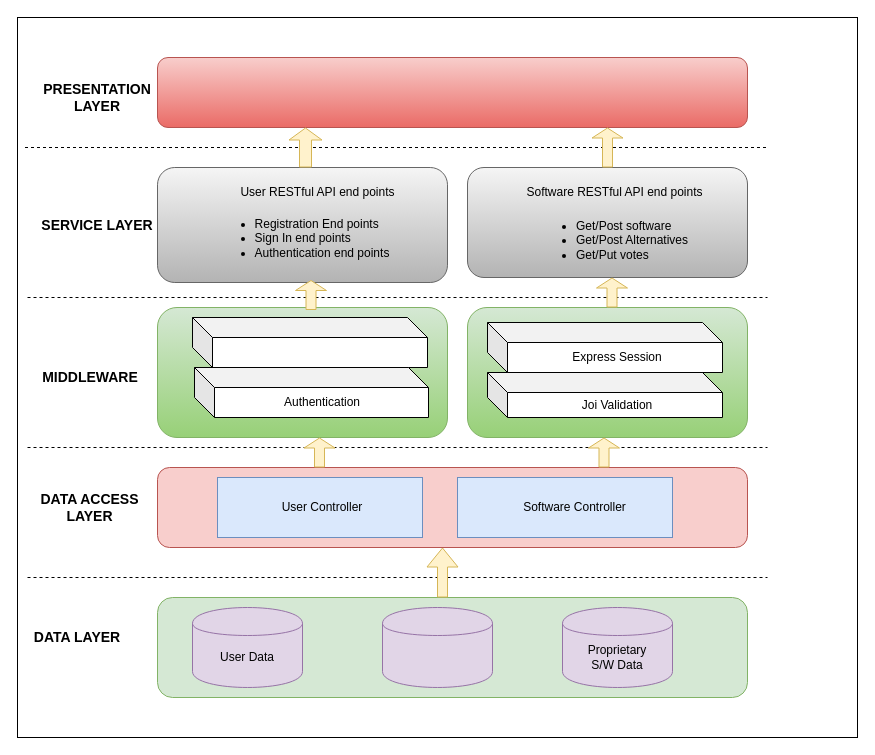
Some shapes in this 875 by 755 pixel diagram are drawn without their labels. Here are the shapes that lost their labels. From the top down, the centre of each, then its label:
point (452, 92): React Framework
point (310, 342): Registration
point (437, 647): Alternatives Data
